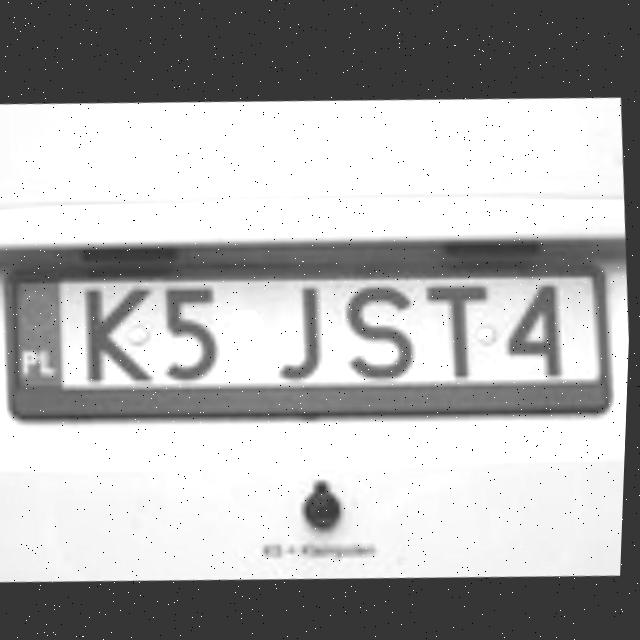license-plates: (15, 275, 603, 387)
